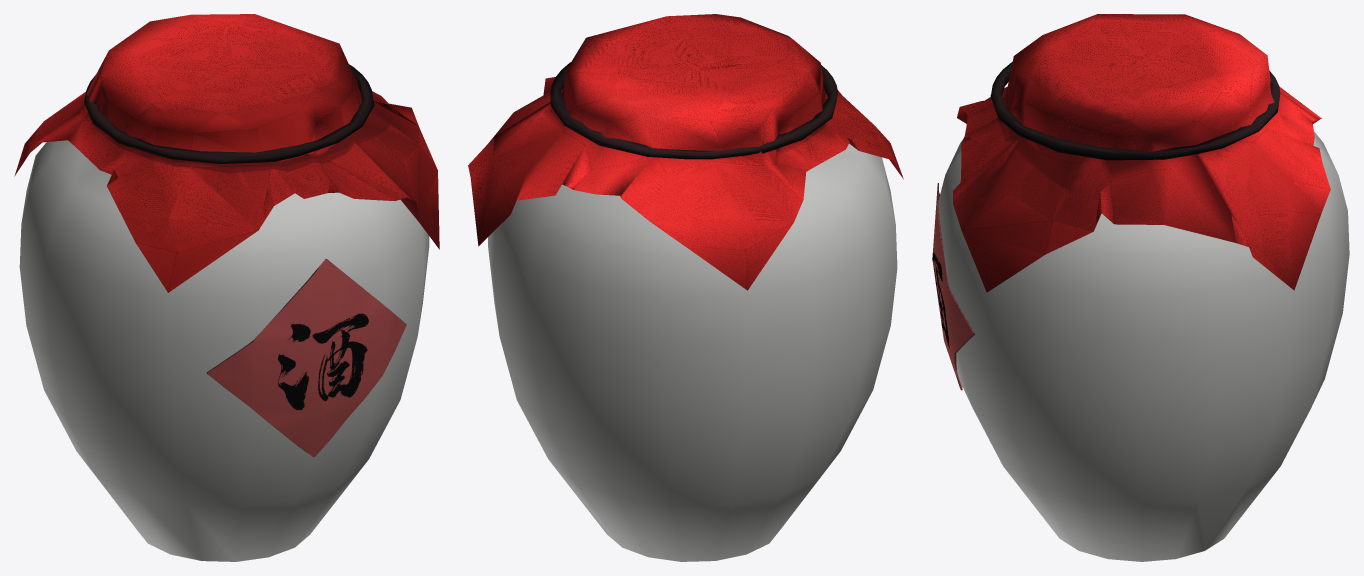
The model's file is wineJar.glb.
3 renders of one model, left to right at view 1: azimuth 30°, elevation 25°; view 2: azimuth 150°, elevation 25°; view 3: azimuth 270°, elevation 25°, orthographic.
Visible parts, largest first — view 1: jiushen.001, jiugai.001, tiezhi.001, jiugaishenzi.001; view 2: jiushen.001, jiugai.001, jiugaishenzi.001; view 3: jiushen.001, jiugai.001, jiugaishenzi.001, tiezhi.001.
Part boxes in pixels (box(x1,y1,x2,y2)): jiushen.001: box(19, 140, 429, 561); jiugai.001: box(14, 14, 439, 292); tiezhi.001: box(206, 259, 406, 457); jiugaishenzi.001: box(84, 64, 374, 163); jiushen.001: box(488, 143, 897, 561); jiugai.001: box(468, 14, 903, 290); jiugaishenzi.001: box(550, 62, 837, 159); jiushen.001: box(938, 131, 1349, 561); jiugai.001: box(953, 14, 1330, 292); jiugaishenzi.001: box(990, 62, 1280, 160); tiezhi.001: box(932, 183, 974, 390).
Bounding box in the file's own units: 0.8641 × 1.08 × 0.8679.
4 materials, 3 textured.
